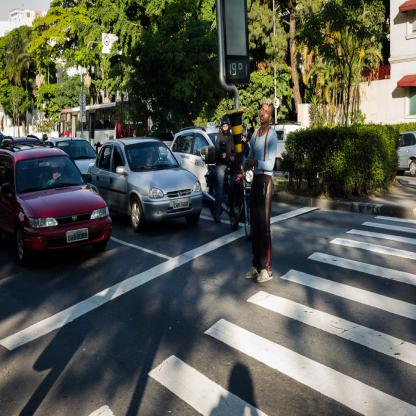Car: (0, 120, 231, 270), (396, 130, 416, 178)
